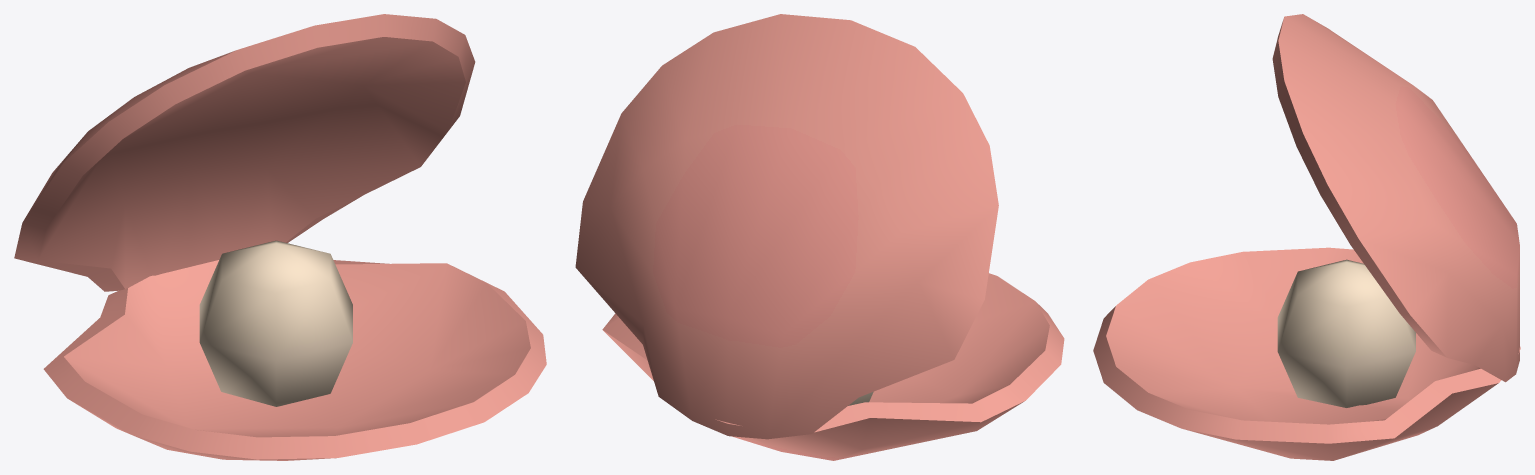
Rendered from ShellB.fbx.
3 views of the same model, side by side, from view 1: azimuth 30°, elevation 25°; view 2: azimuth 150°, elevation 25°; view 3: azimuth 270°, elevation 25° (orthographic). The views are drawn at different scales.
Parts seen in each view (by area): view 1: ShellB; view 2: ShellB; view 3: ShellB.
Part boxes in pixels (box(x1,y1,x2,y2)): ShellB: box(14, 14, 546, 460); ShellB: box(575, 14, 1064, 460); ShellB: box(1093, 14, 1520, 460).
Bounding box in the file's own units: 18.27 × 16.53 × 17.15.
Materials: 1 (1 with a texture image).
